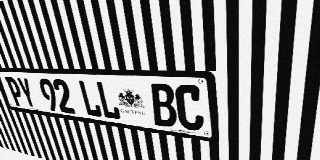2: (51, 79, 75, 114)
9: (37, 78, 61, 112)
B: (149, 83, 178, 128)
C: (174, 84, 204, 132)
L: (95, 81, 122, 120), (77, 80, 103, 118)
P: (4, 77, 26, 107)
Y: (16, 77, 38, 109)
